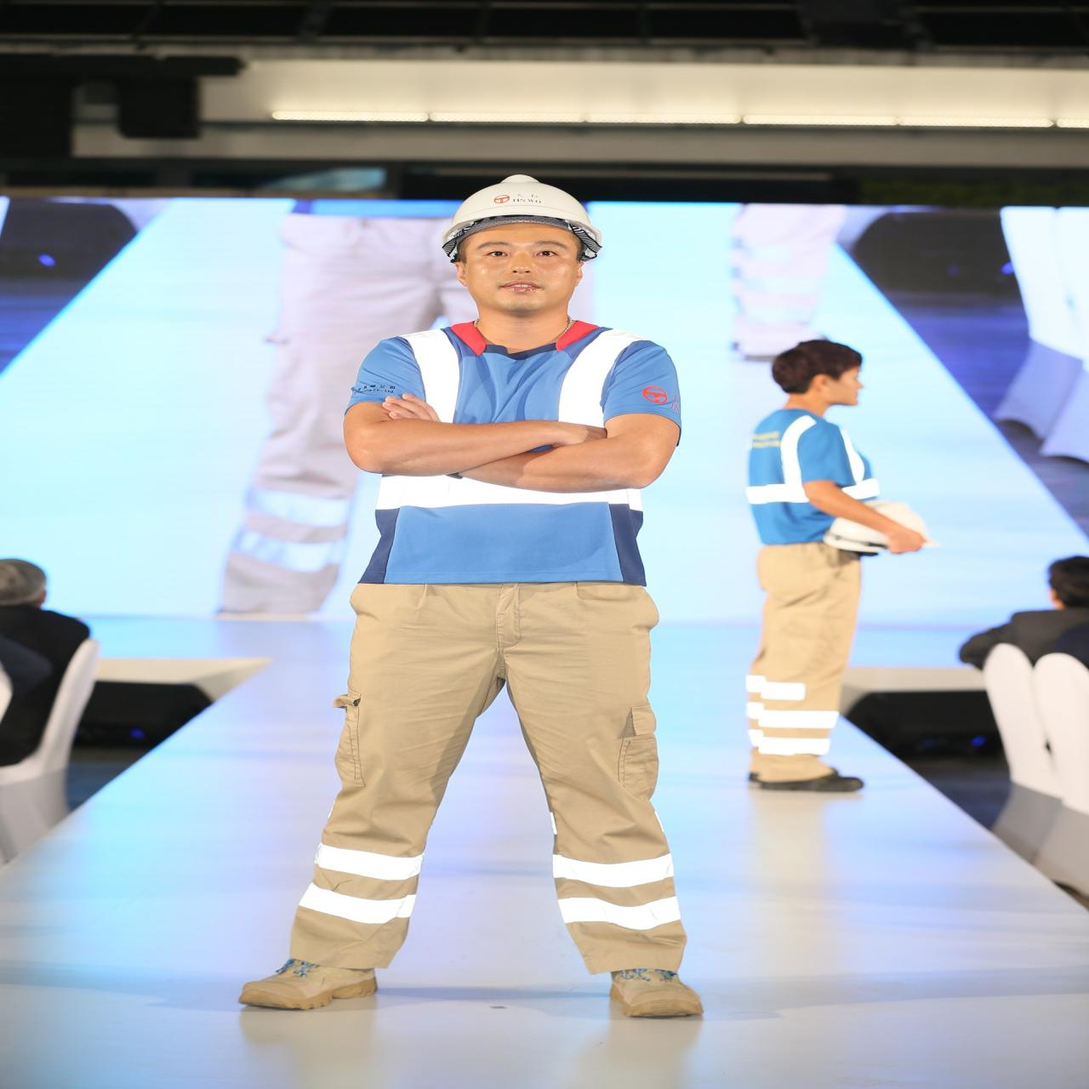NO_Safety_Vest: (338, 306, 692, 622), (738, 410, 889, 556)
Person: (175, 158, 751, 1038), (730, 320, 953, 819)
